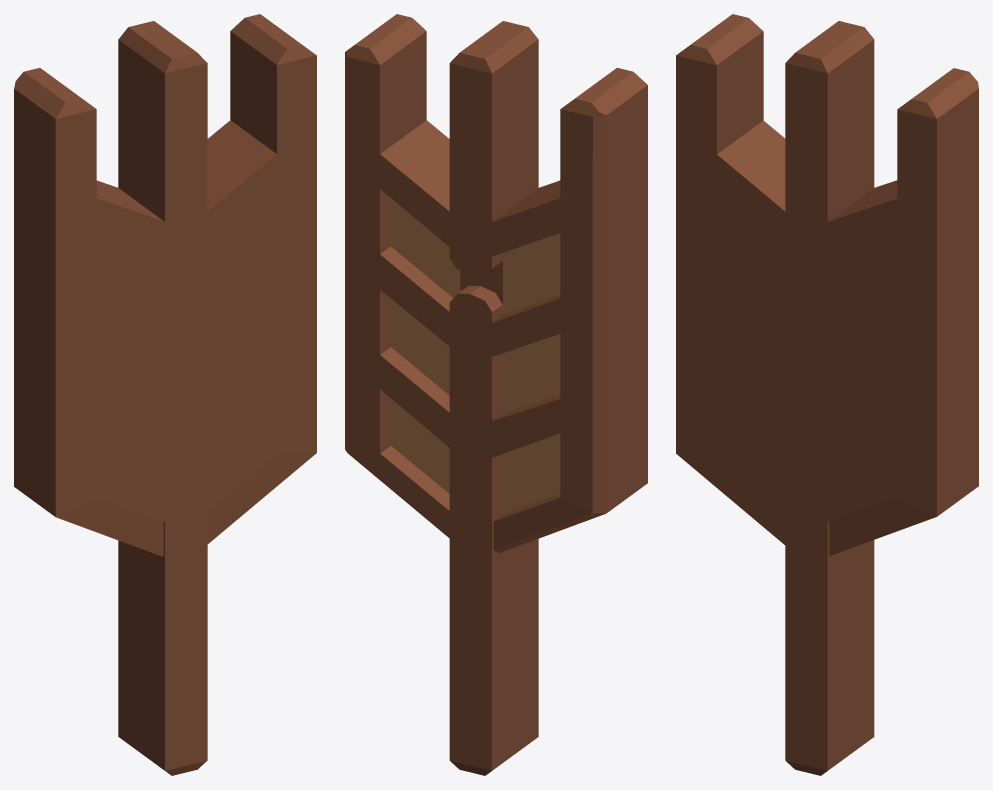
Rendered from icon_wheat.fbx.
3 renders of one model, left to right at view 1: azimuth 30°, elevation 25°; view 2: azimuth 150°, elevation 25°; view 3: azimuth 330°, elevation 25°, orthographic.
Visible parts, largest first — view 1: icon_wheat; view 2: icon_wheat; view 3: icon_wheat.
Boxes of the visible parts, left/top/right/bottom form: icon_wheat: left=14, top=14, right=316, bottom=775; icon_wheat: left=345, top=14, right=647, bottom=775; icon_wheat: left=676, top=14, right=978, bottom=775.
Size of the model in its own units: 30.05 by 78.87 by 9.29.
